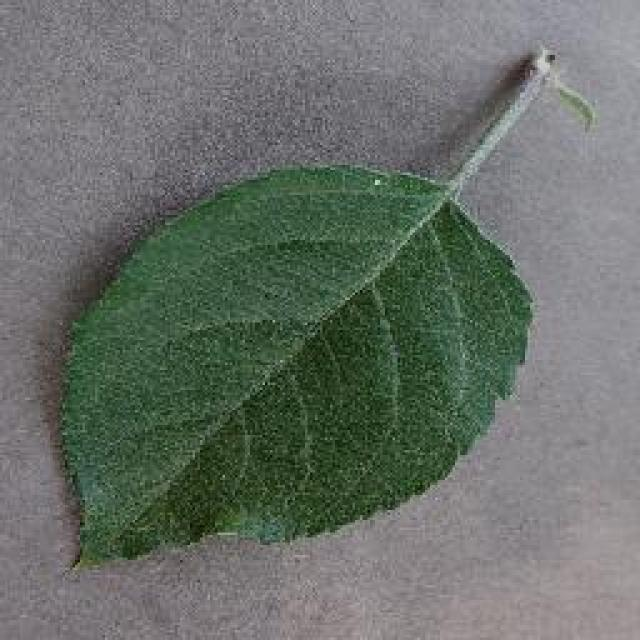apple healthy: (53, 42, 595, 572)
